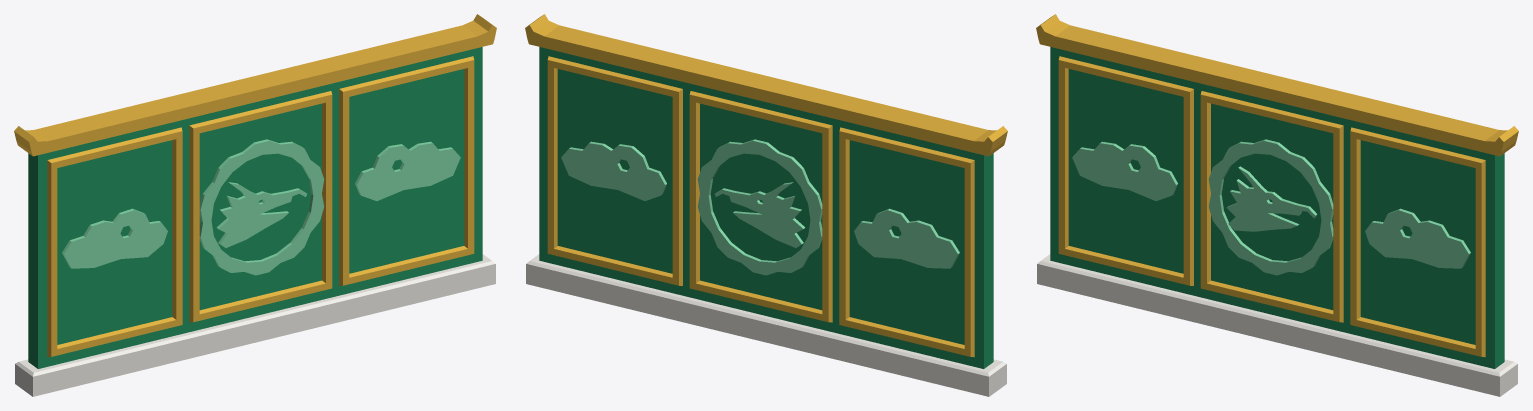
Rendered from jade-wall.glb.
3 views of the same model, side by side, from view 1: azimuth 30°, elevation 25°; view 2: azimuth 150°, elevation 25°; view 3: azimuth 330°, elevation 25° (orthographic).
Parts seen in each view (by area): view 1: Jade, Gold, Relief, Base; view 2: Jade, Gold, Relief, Base; view 3: Jade, Gold, Relief, Base.
Part boxes in pixels (<box>): Jade: <box>28,47,482,368</box>; Gold: <box>14,14,496,357</box>; Relief: <box>62,139,460,275</box>; Base: <box>15,254,495,396</box>; Jade: <box>539,47,993,368</box>; Gold: <box>525,14,1007,357</box>; Relief: <box>561,139,959,275</box>; Base: <box>526,254,1006,396</box>; Jade: <box>1050,47,1504,368</box>; Gold: <box>1036,14,1518,357</box>; Relief: <box>1072,139,1470,275</box>; Base: <box>1037,254,1517,396</box>.
Bounding box in the file's own units: 30.3 × 16 × 2.
